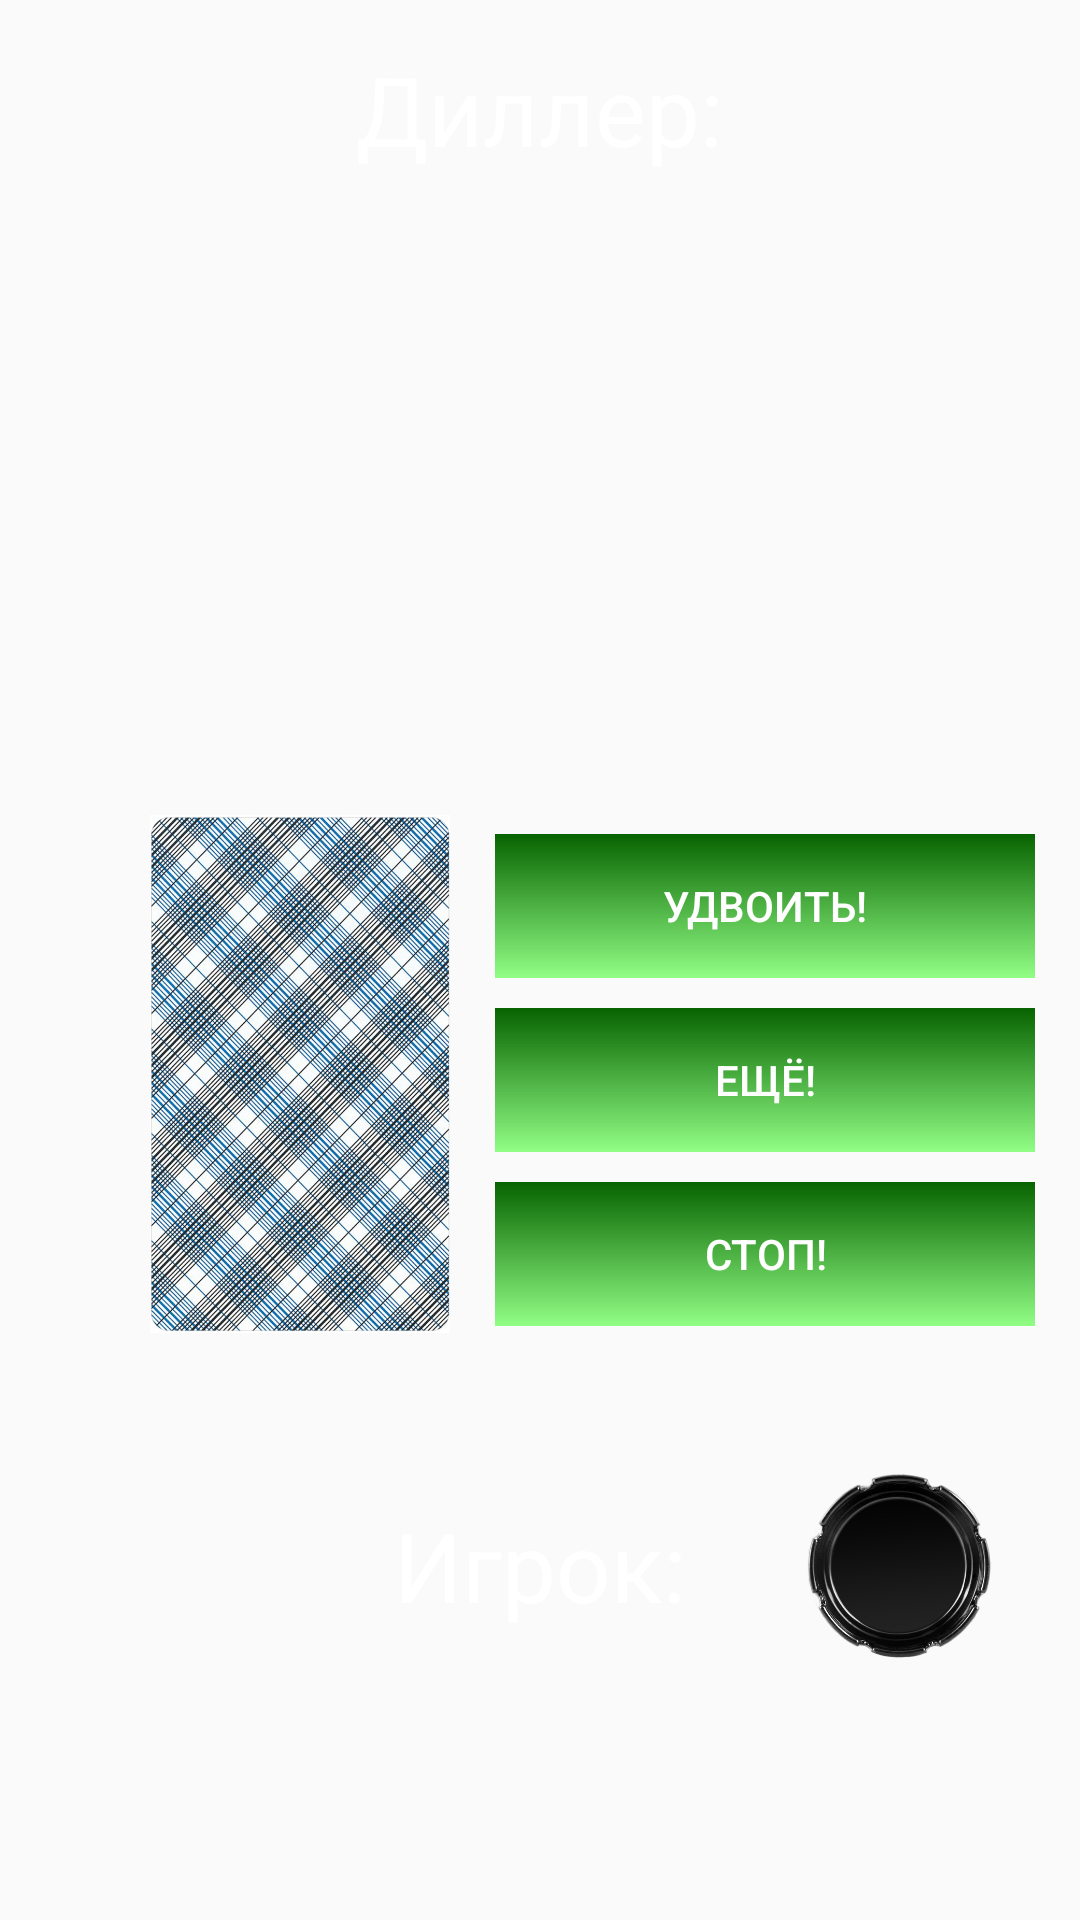

Icons on this 1080 × 1920 Android screen, each with the point to tap as (x,y):
ashtray: (899,1566)
